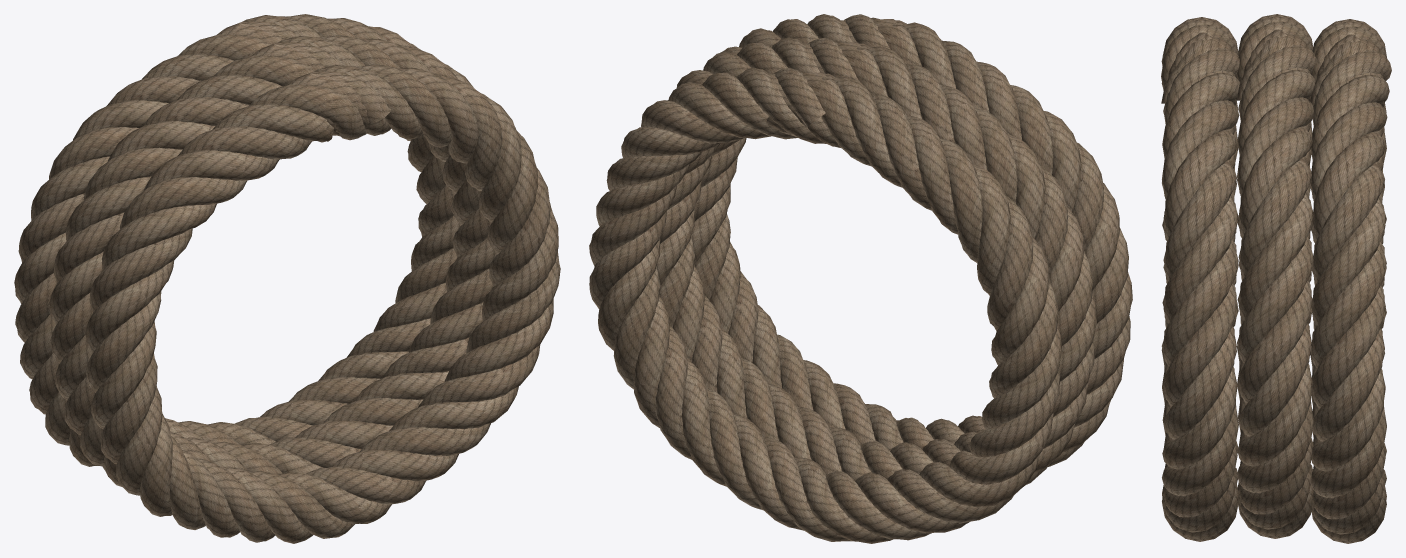
Rendered from ipBag.fbx.
3 renders of one model, left to right at view 1: azimuth 30°, elevation 25°; view 2: azimuth 150°, elevation 25°; view 3: azimuth 270°, elevation 25°, orthographic. The views are drawn at different scales.
Parts seen in each view (by area): view 1: Circle.003, Circle.001, Circle.002; view 2: Circle.002, Circle.001, Circle.003; view 3: Circle.003, Circle.001, Circle.002.
Part boxes in pixels (x1=…): Circle.003: x1=85, y1=64, x2=560, y2=543; Circle.001: x1=49, y1=35, x2=497, y2=486; Circle.002: x1=14, y1=14, x2=461, y2=469; Circle.002: x1=589, y1=67, x2=1062, y2=543; Circle.001: x1=656, y1=37, x2=1096, y2=484; Circle.003: x1=691, y1=14, x2=1132, y2=466; Circle.003: x1=1161, y1=17, x2=1239, y2=541; Circle.001: x1=1236, y1=14, x2=1315, y2=538; Circle.002: x1=1310, y1=19, x2=1391, y2=543.
Bounding box in the file's own units: 881 × 842 × 362.
